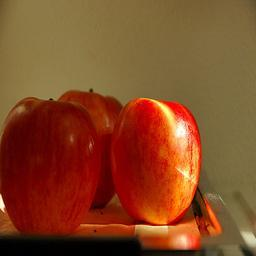apple: (1, 96, 100, 237), (110, 98, 206, 223), (56, 90, 123, 207)
